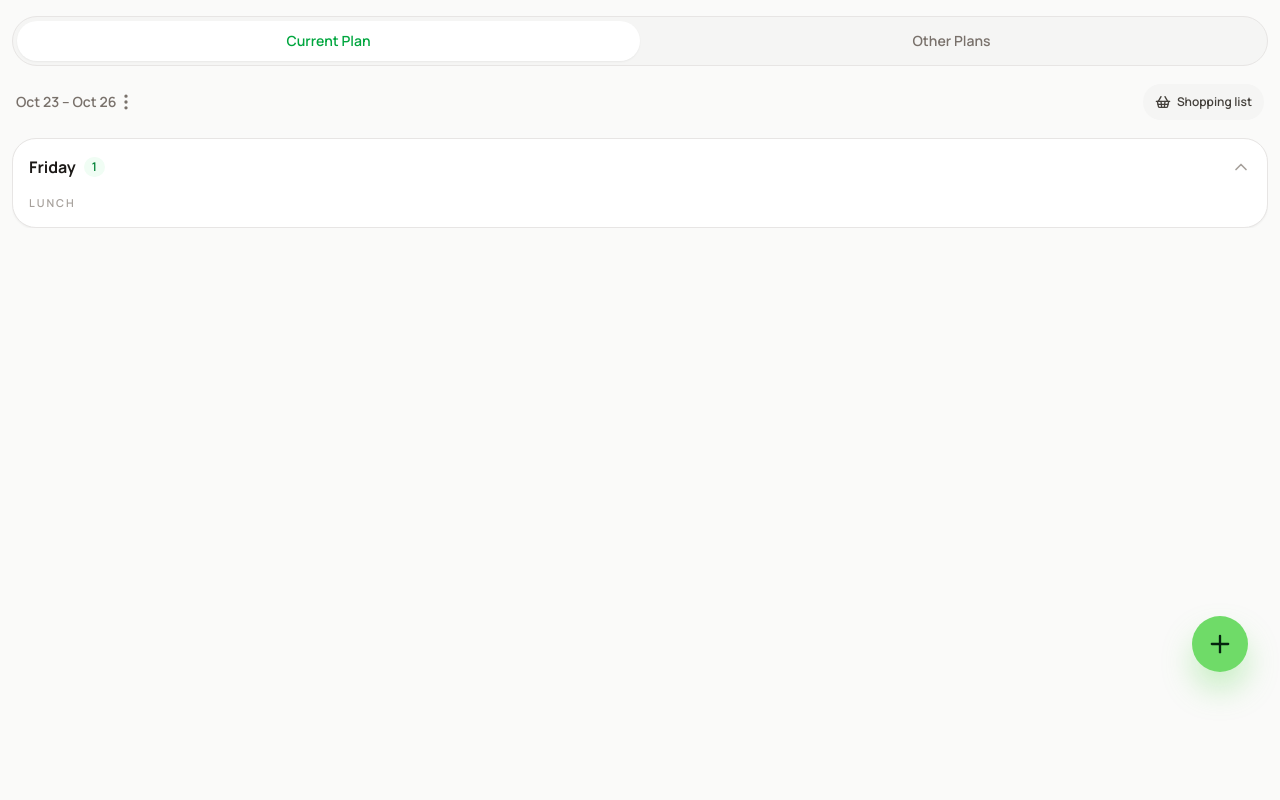
Test: PlanTabPage reminders export bridge and errors › keeps review open after removing the last ingredient
This screenshot has width=1280, height=800.
Click the button "Shopping list" at (1203, 102), box [1143,84,1264,120]
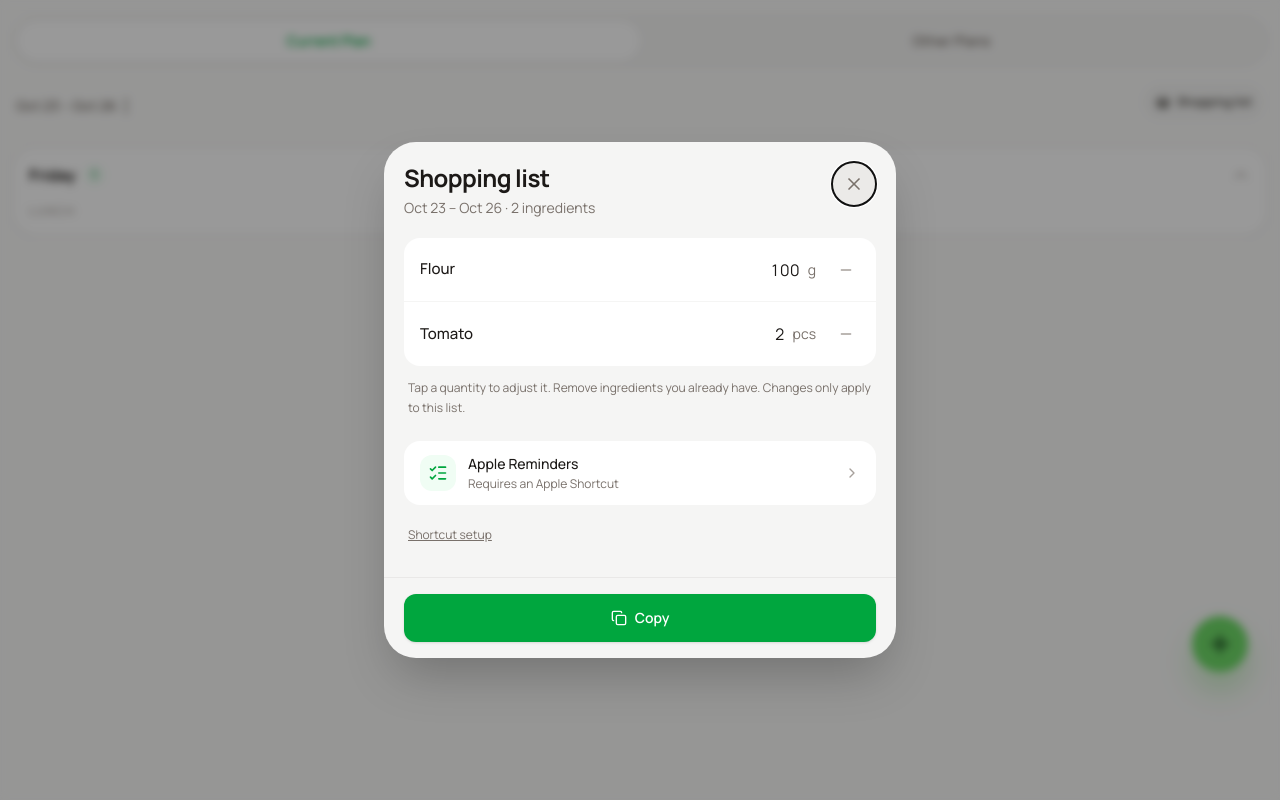
Click the button named "Remove Tomato" at (846, 334), box [824,312,868,356]
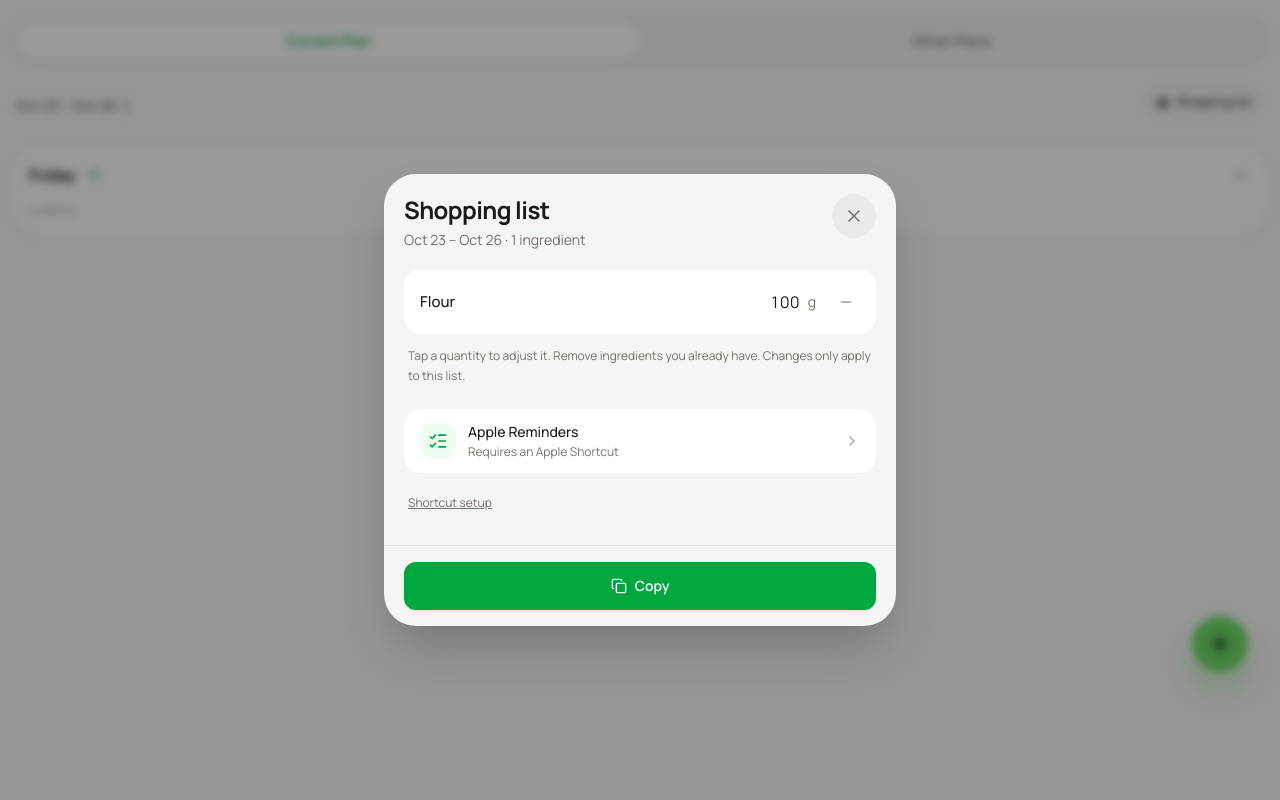
Click the button named "Remove Flour" at (846, 302), box [824,280,868,324]
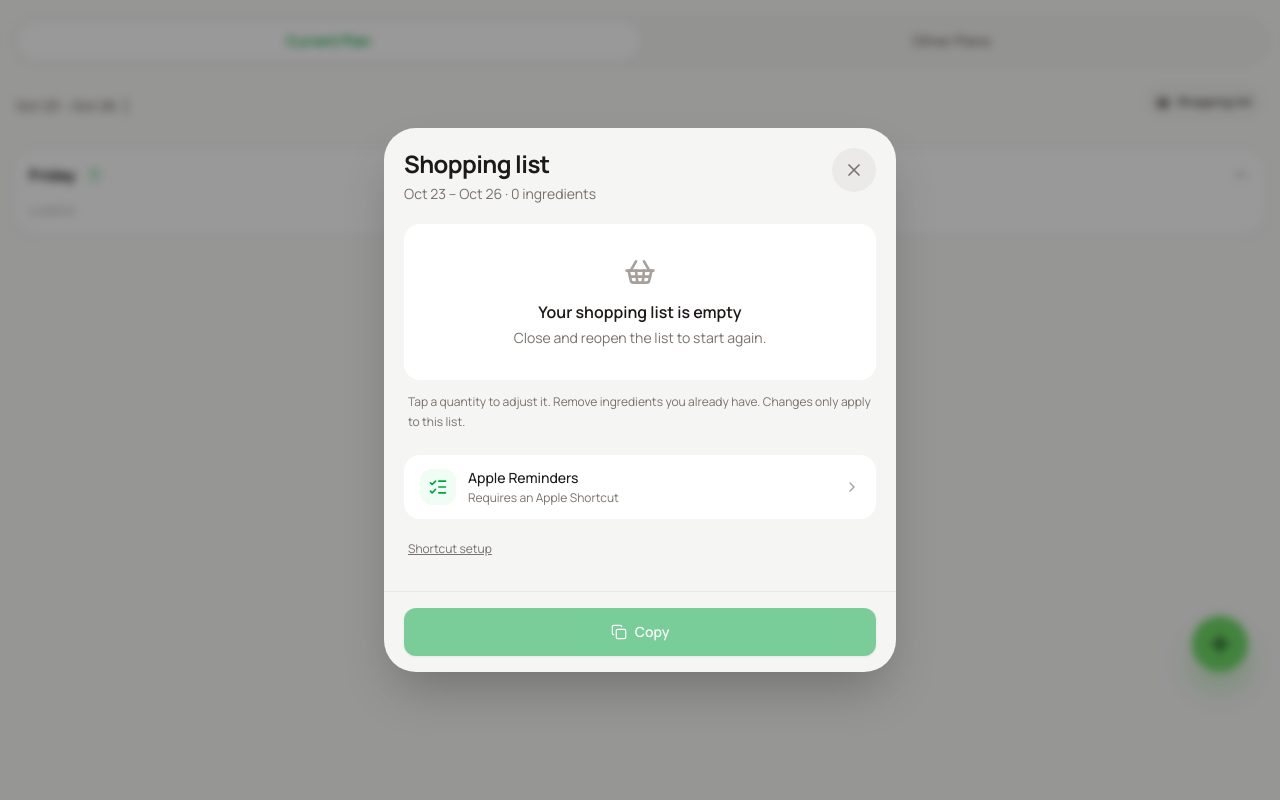
Now the dialog is shown, box [384,128,896,672]
Now the text "Your shopping list is empty" is shown, box [538,301,742,323]
Now the button "Copy" is disabled, box [404,608,876,656]
